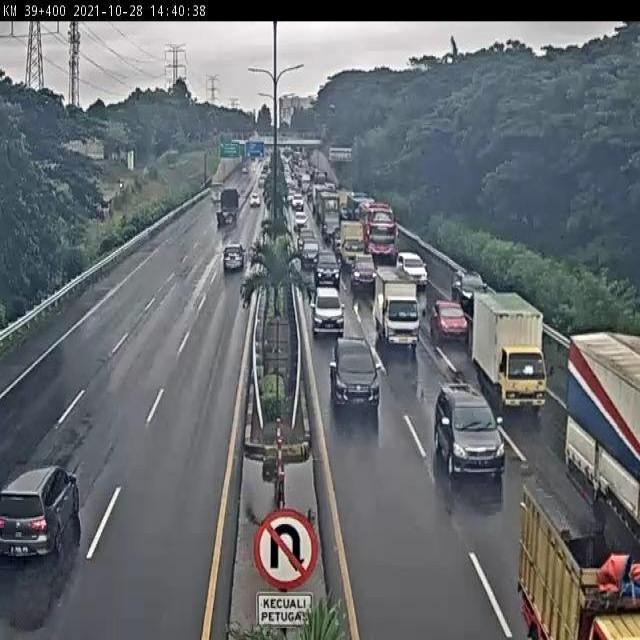car: (0, 463, 79, 557), (434, 383, 508, 477), (331, 336, 380, 403), (310, 280, 343, 331), (433, 296, 468, 336), (451, 268, 486, 304), (395, 248, 425, 288), (349, 250, 376, 286), (313, 249, 339, 283), (220, 240, 247, 271)
small truck: (473, 292, 549, 413), (374, 265, 418, 344)
